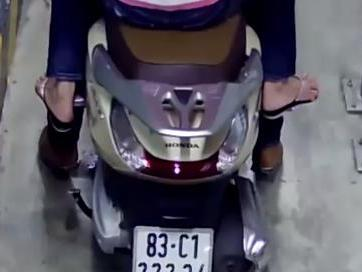num_plate: (132, 225, 215, 272)
